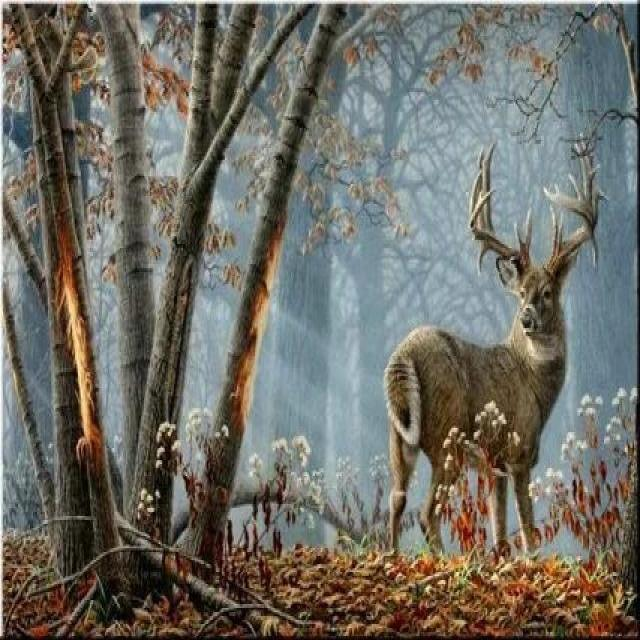deer: (310, 169, 600, 498)
